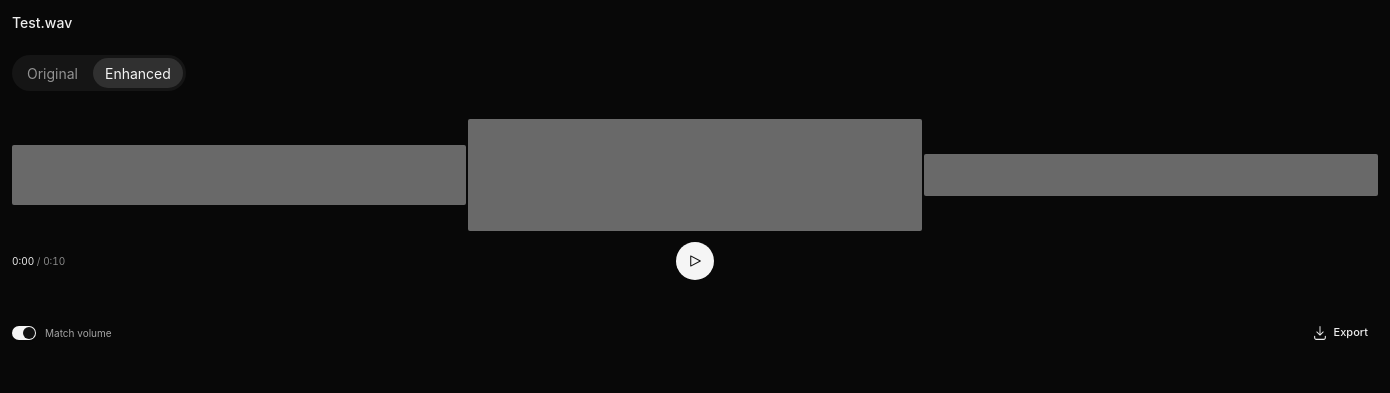
Scenario: audio comparison › reports a playback failure
Click the button named "Play" at {"x": 695, "y": 261}, box [676,242,714,280]
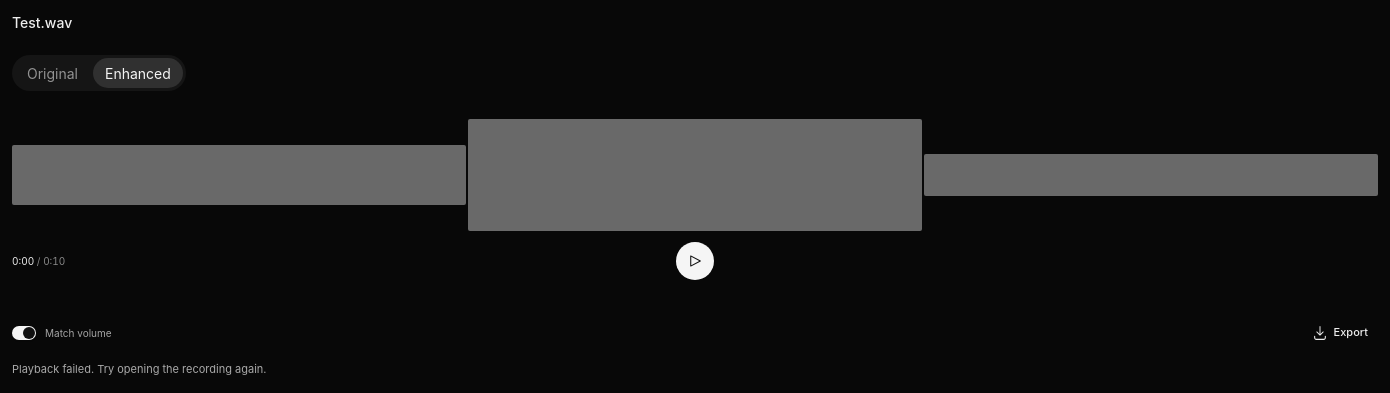
Result: the message "Playback failed. Try opening the recording again." is shown at [12,362,266,376]
